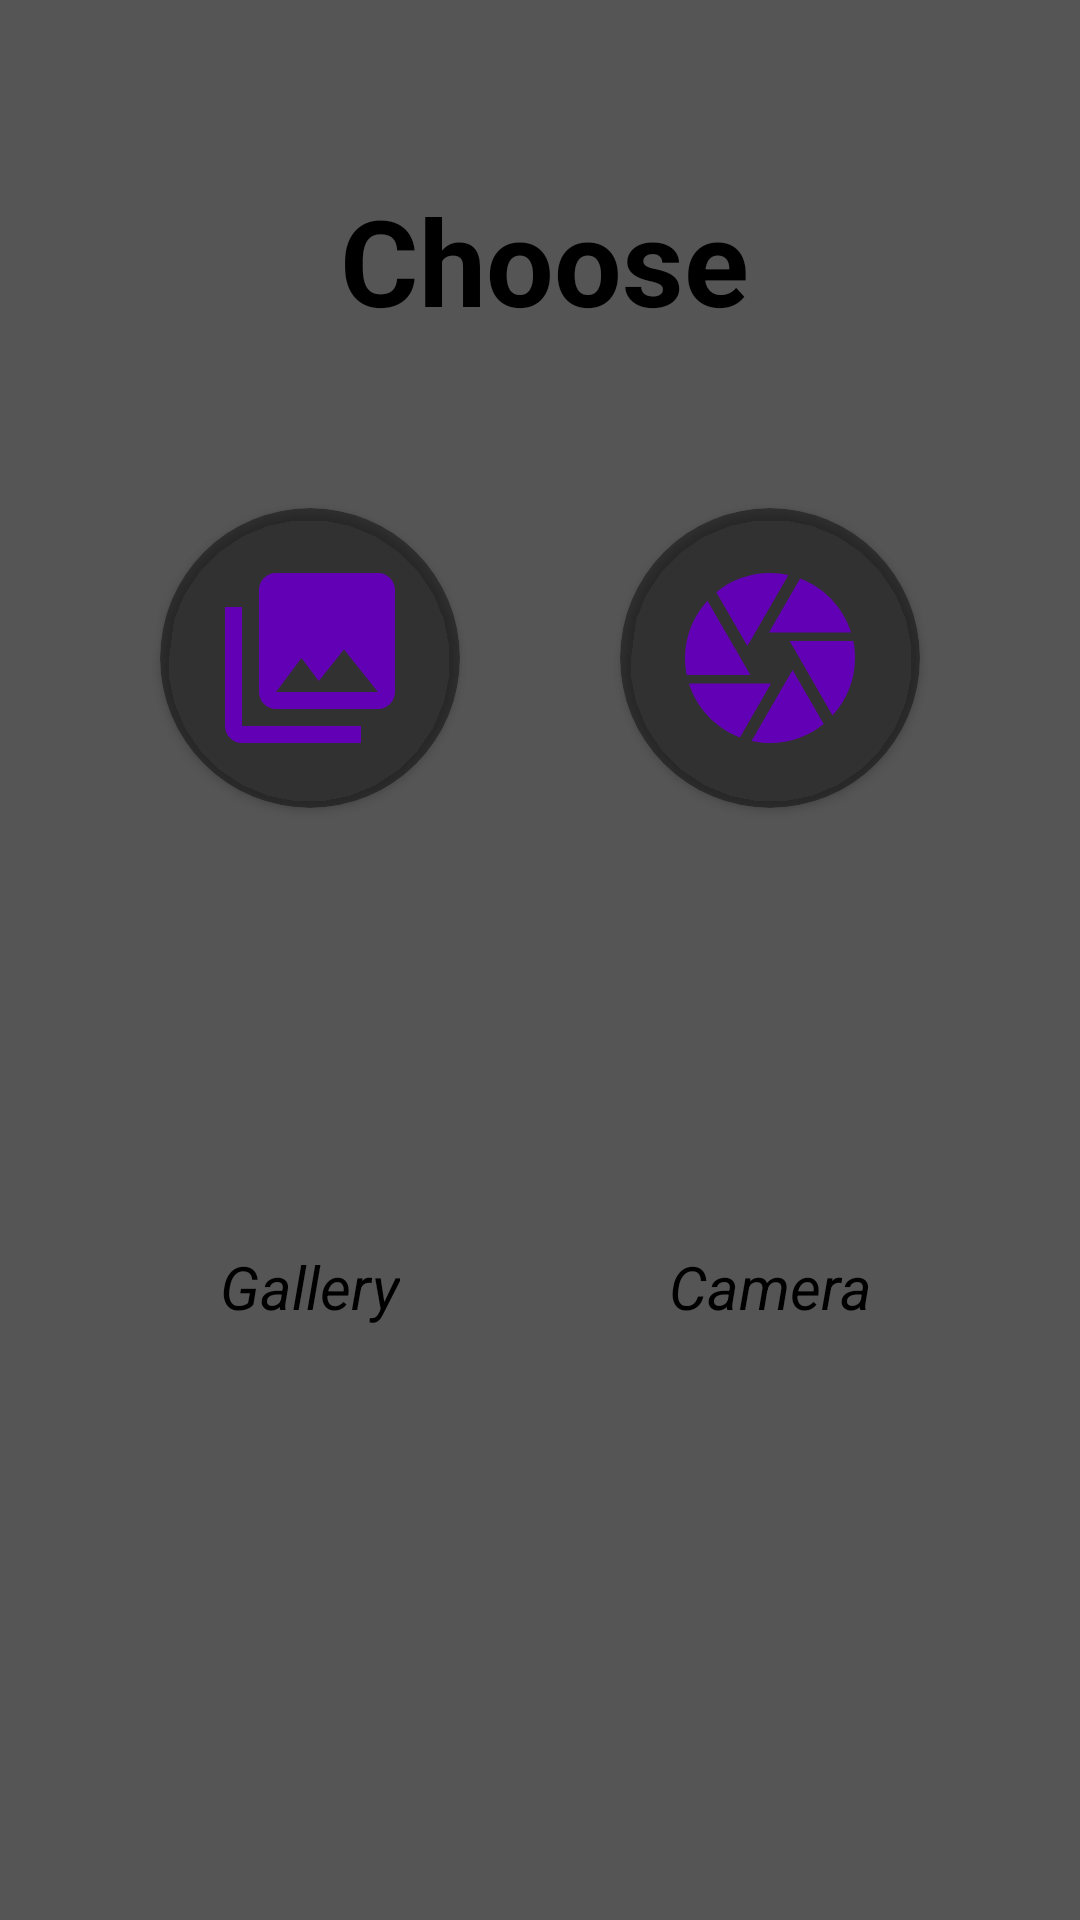

Icons on this 1080px×1920px Android screen, each with its box as (x1, y1, x2, y2):
camera: (620, 508, 920, 808)
photo library: (160, 508, 460, 808)
